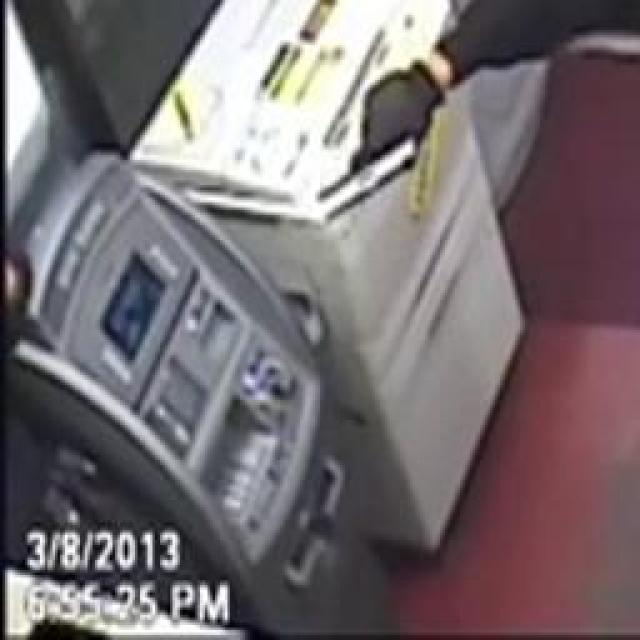Guns: (296, 117, 444, 242)
